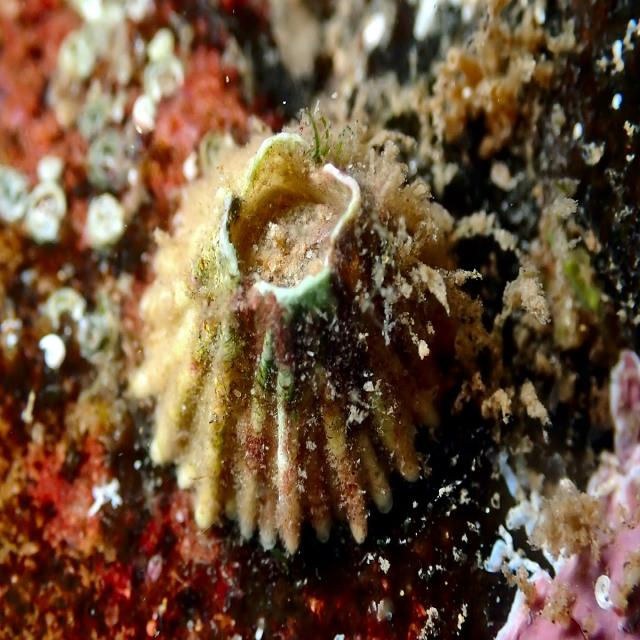barnacles: (139, 105, 466, 551)
